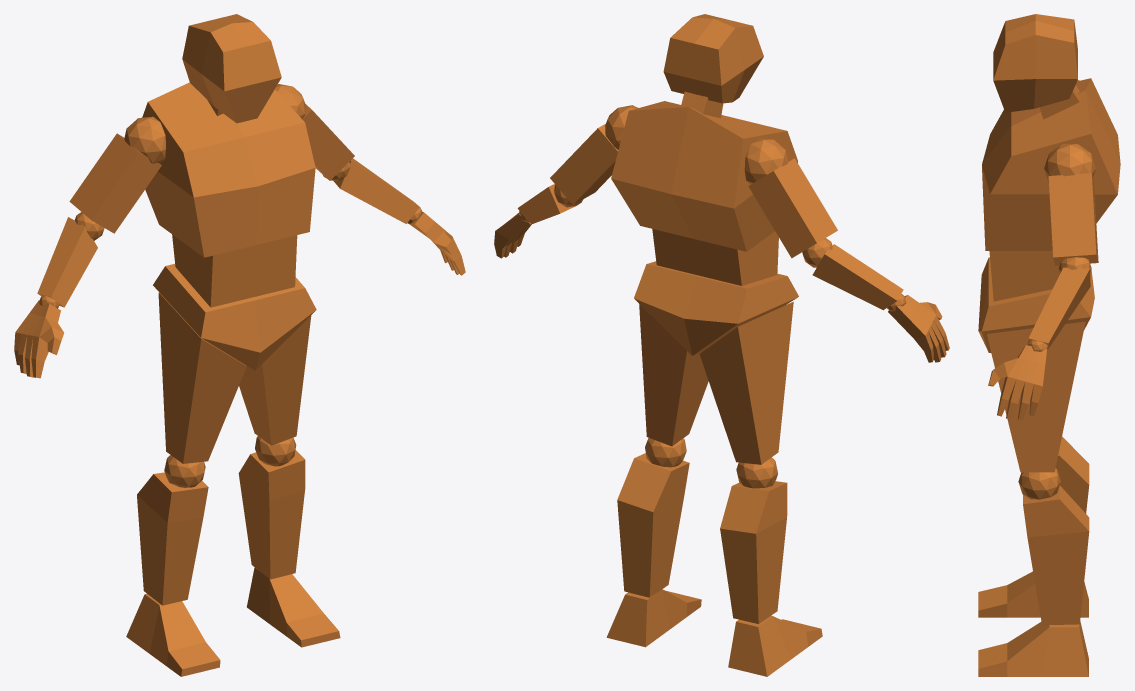
File: low_poly_base_male.fbx
3 renders of one model, left to right at view 1: azimuth 30°, elevation 25°; view 2: azimuth 150°, elevation 25°; view 3: azimuth 270°, elevation 25°, orthographic.
Parts seen in each view (by area): view 1: chest, r_leg_thigh, body_head, body_pelvis, r_leg_calf, l_leg_calf, abs, l_leg_thigh, r_arm_bisep, r_leg_foot, l_leg_foot, r_arm_fore (+7 smaller); view 2: chest, r_leg_thigh, body_pelvis, r_leg_calf, l_leg_calf, body_head, l_leg_thigh, r_arm_bisep, abs, r_leg_foot, l_leg_foot, l_arm_bisep (+8 smaller); view 3: chest, body_head, l_leg_calf, l_leg_thigh, l_leg_foot, l_arm_bisep, body_pelvis, abs, l_arm_hand, l_arm_fore, r_leg_foot, r_leg_calf (+4 smaller).
Boxes of the visible parts, x1,y1,x2,y2 form: chest: [142, 82, 315, 257]; r_leg_thigh: [158, 292, 246, 463]; body_head: [182, 14, 281, 123]; body_pelvis: [153, 264, 316, 370]; r_leg_calf: [137, 472, 208, 605]; l_leg_calf: [238, 450, 305, 579]; abs: [172, 234, 297, 307]; l_leg_thigh: [239, 315, 311, 445]; r_arm_bisep: [69, 133, 161, 233]; r_leg_foot: [126, 593, 220, 676]; l_leg_foot: [247, 567, 340, 647]; r_arm_fore: [37, 217, 97, 307]; chest: [611, 101, 797, 251]; r_leg_thigh: [699, 301, 793, 464]; body_pelvis: [634, 261, 798, 355]; r_leg_calf: [720, 481, 787, 623]; l_leg_calf: [617, 453, 689, 597]; body_head: [663, 14, 763, 103]; l_leg_thigh: [639, 304, 708, 446]; r_arm_bisep: [748, 158, 837, 258]; abs: [652, 229, 778, 285]; r_leg_foot: [728, 615, 822, 676]; l_leg_foot: [606, 589, 701, 647]; l_arm_bisep: [550, 123, 618, 204]; chest: [982, 78, 1120, 250]; body_head: [993, 14, 1077, 112]; l_leg_calf: [1023, 485, 1089, 625]; l_leg_thigh: [987, 321, 1085, 472]; l_leg_foot: [978, 621, 1088, 676]; l_arm_bisep: [1048, 173, 1098, 265]; body_pelvis: [978, 257, 1094, 352]; abs: [989, 251, 1060, 301]; l_arm_hand: [988, 345, 1046, 420]; l_arm_fore: [1028, 267, 1090, 348]; r_leg_foot: [978, 571, 1088, 617]; r_leg_calf: [1055, 436, 1089, 513].
Bounding box in the file's own units: 139 × 187 × 39.01.
